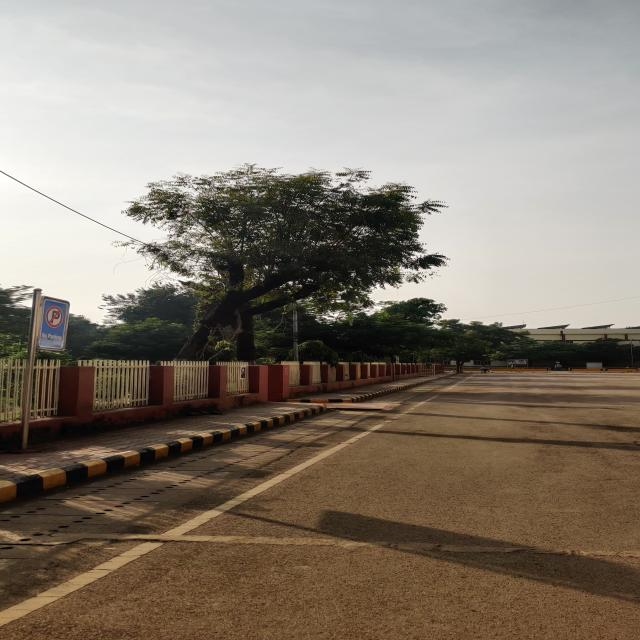Devakanchan tree: (150, 162, 410, 357)
